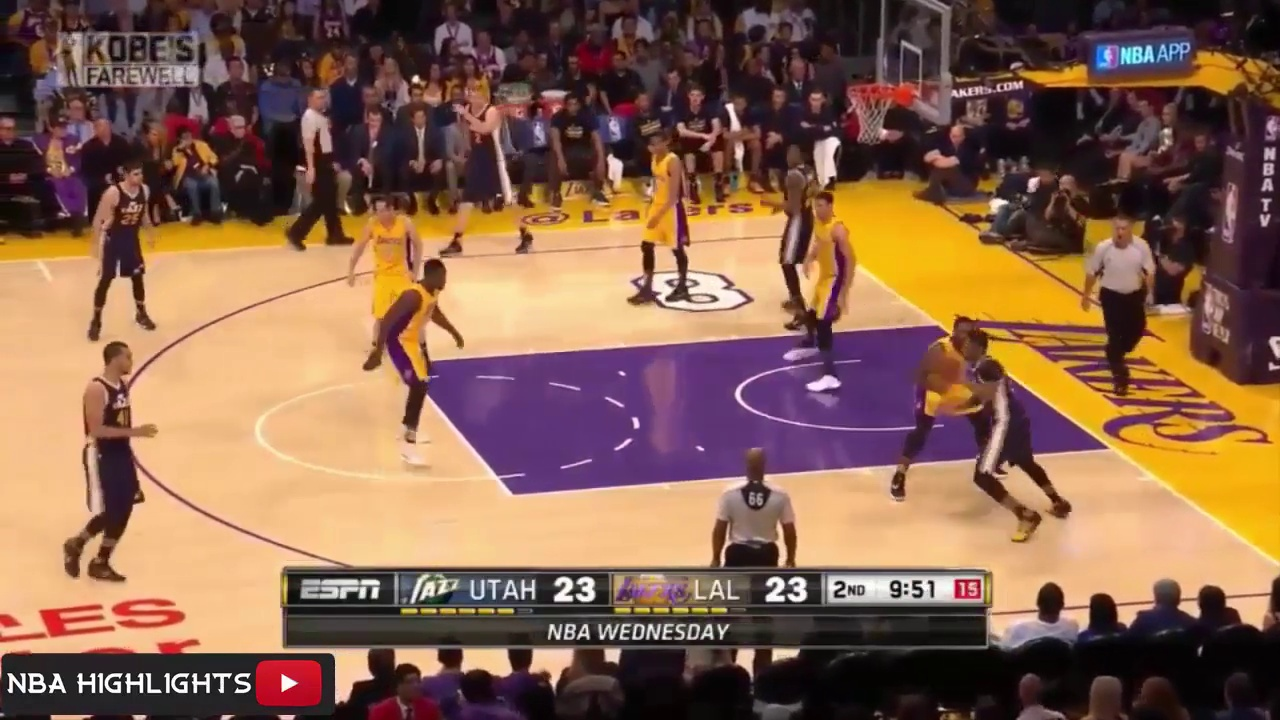jazz: (56, 343, 163, 585), (957, 335, 1071, 546), (446, 83, 541, 256), (86, 156, 155, 338), (767, 144, 816, 304)
lakers: (373, 260, 459, 464), (897, 320, 977, 490), (797, 194, 868, 377), (635, 133, 701, 308), (357, 197, 411, 314)
